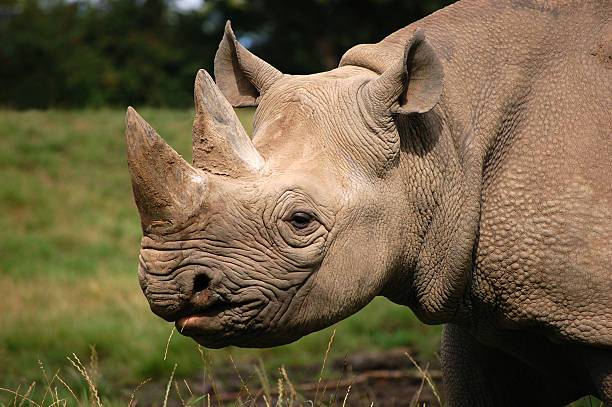rhino: (73, 12, 464, 361)
